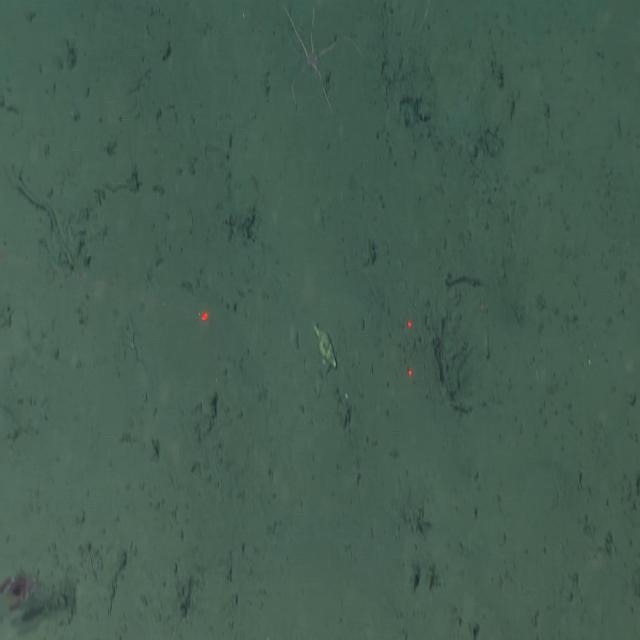Brittle Star: (276, 2, 365, 117)
Not Brittle Star: (310, 314, 340, 374)
